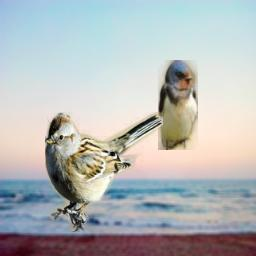Sparrow: (45, 112, 163, 232)
Swallow: (158, 60, 198, 150)
